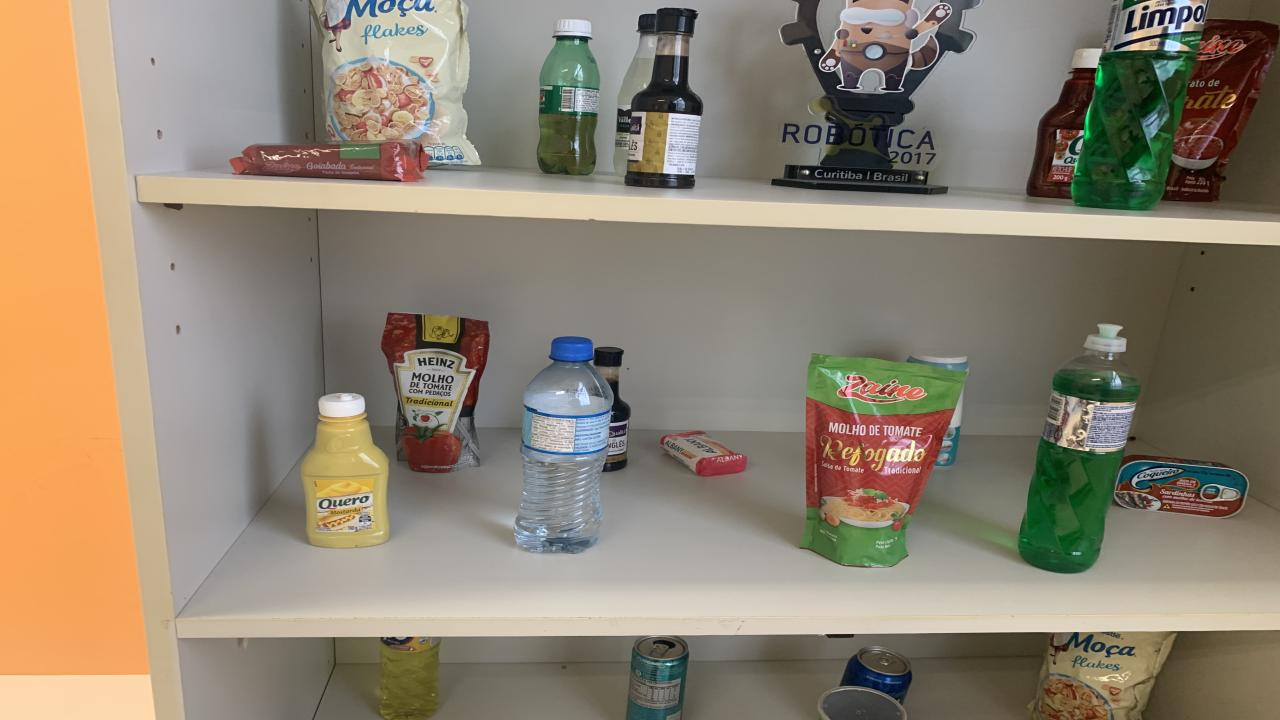Cleaner-Cleanup_Items: (938, 394, 962, 467), (908, 352, 968, 371)
Detergent-Cleanup_Items: (1018, 324, 1140, 572), (1072, 0, 1210, 210), (380, 636, 440, 720)
English_Sauce-Pantry_Items: (625, 8, 702, 188), (592, 347, 630, 471)
Flakes-Snacks: (310, 0, 478, 165), (1030, 632, 1178, 720)
Guarana-Drinks: (538, 19, 600, 174)
Guava-Snacks: (230, 141, 430, 182)
Ketchup-Pantry_Items: (1028, 49, 1100, 199)
Mustard-Pantry_Items: (302, 394, 390, 548)
Pringles-Snacks: (818, 686, 908, 720)
Soap-Cleanup_Items: (660, 431, 748, 476)
Soda-Drinks: (615, 13, 658, 176)
Tea-Drinks: (1162, 19, 1280, 202), (625, 636, 690, 720)
Tomato_Sauce-Pantry_Items: (802, 354, 965, 566), (382, 313, 490, 472)
Tonic-Drinks: (840, 647, 912, 703)
Trophy-Miscellaneous: (772, 0, 980, 193)
Tuna_Can-Pantry_Items: (1115, 456, 1250, 518)
Water_Bottle-Drinks: (515, 338, 612, 553)
